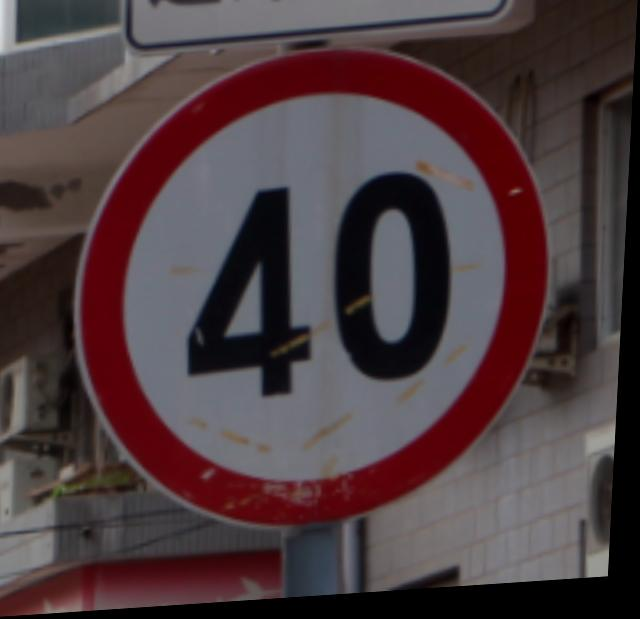limit40: (49, 36, 572, 550)
